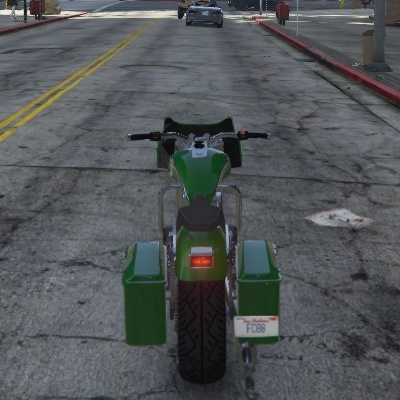on: (188, 242, 217, 273)
